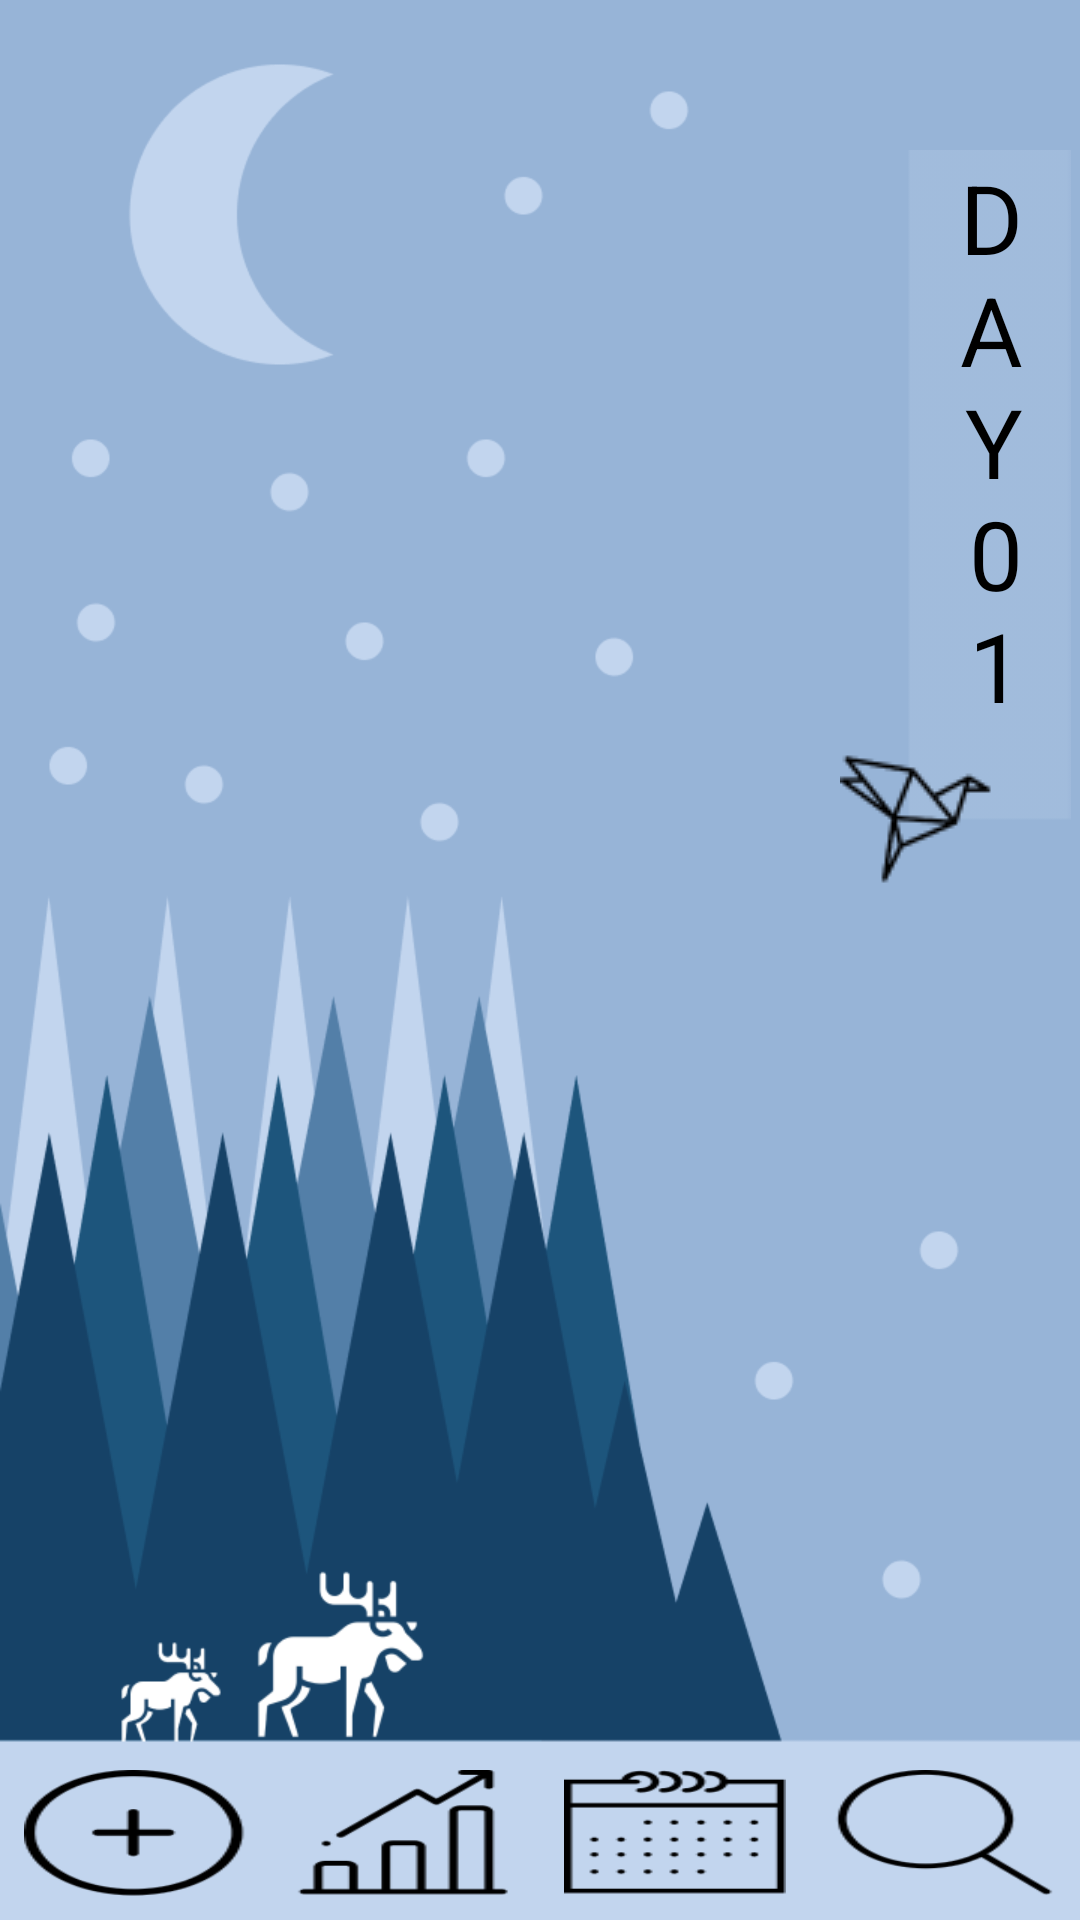

Icon click points for this 1080px x 1920px phone screenshot, format (x,y):
New Entry: (134,1833)
Search: (944,1832)
Select a Date to View Entries: (675,1832)
Stats: (403,1832)
